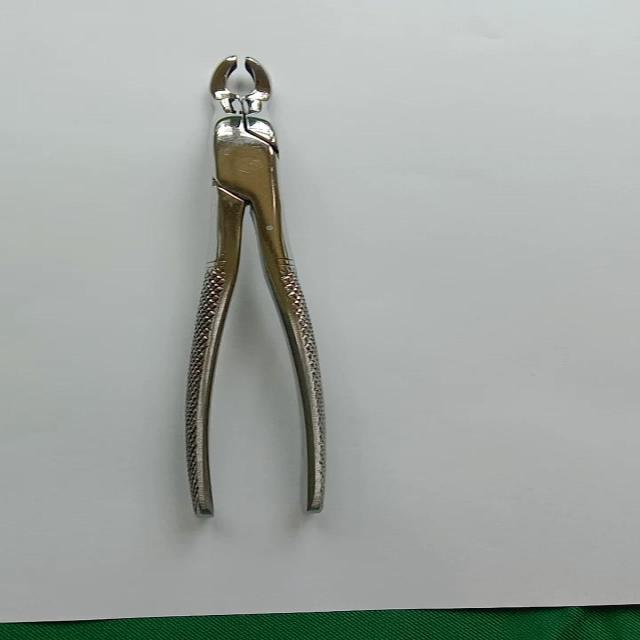BayonetForcep: (178, 52, 335, 523)
